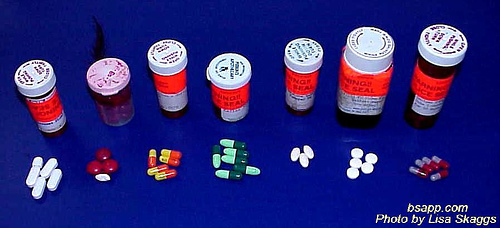pill bottle: (404, 23, 469, 131), (336, 23, 397, 131), (83, 48, 142, 136), (15, 55, 72, 140), (145, 36, 195, 122), (279, 35, 325, 119), (204, 51, 256, 125)
